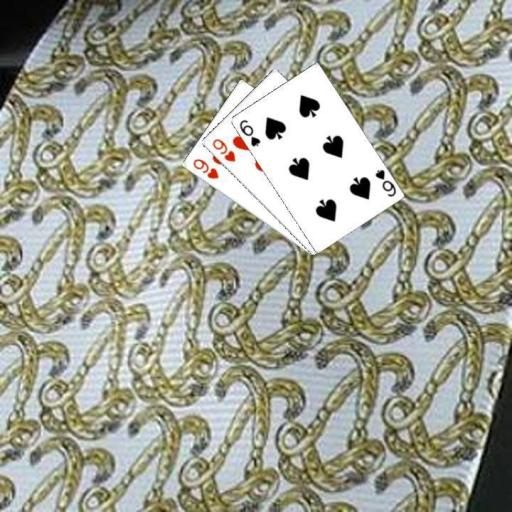card-corner: (236, 116, 262, 148), (189, 155, 220, 181), (372, 166, 397, 198), (209, 136, 237, 163)
